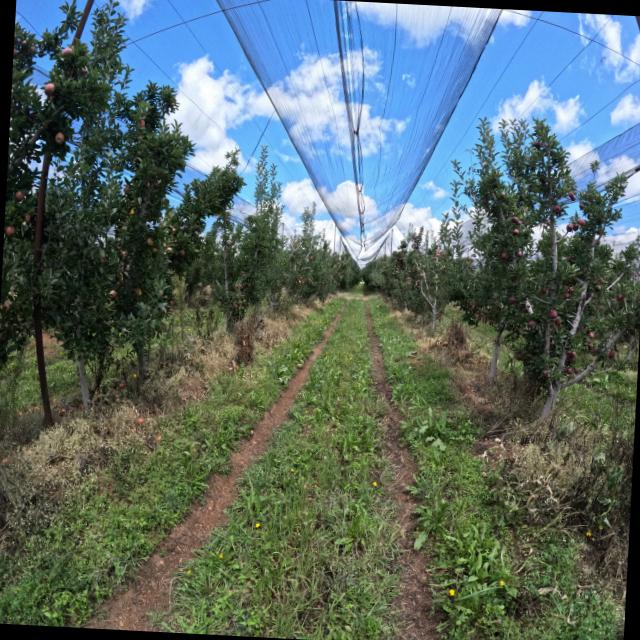-FireBlight-: (474, 310, 495, 326)
